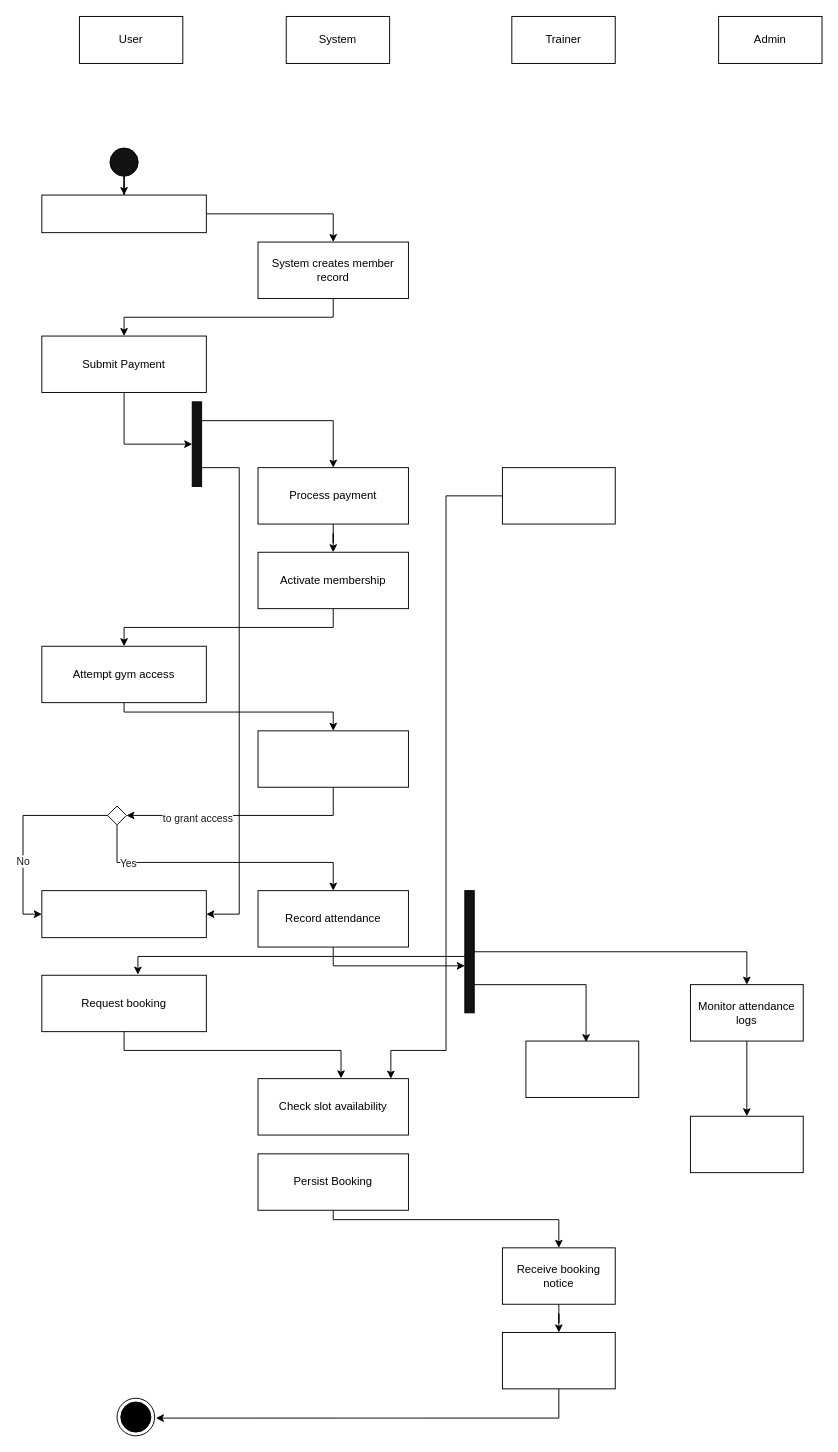
Some shapes in this 838 by 1452 pixel diagram are drawn without their labels. Each missing label, with the centre of its shape:
"Confirm session" goes at [558,1360].
"Generate reports" goes at [746,1144].
"Member request sign-up" goes at [123,213].
"Request renewal" goes at [123,914].
"Set availability" goes at [558,495].
"Validate Membership" goes at [332,758].
"View client attendance" goes at [582,1068].
